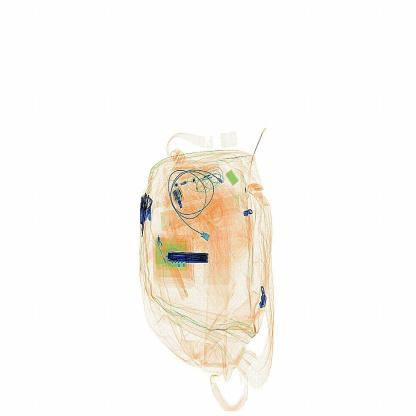scissors: (166, 248, 214, 269)
